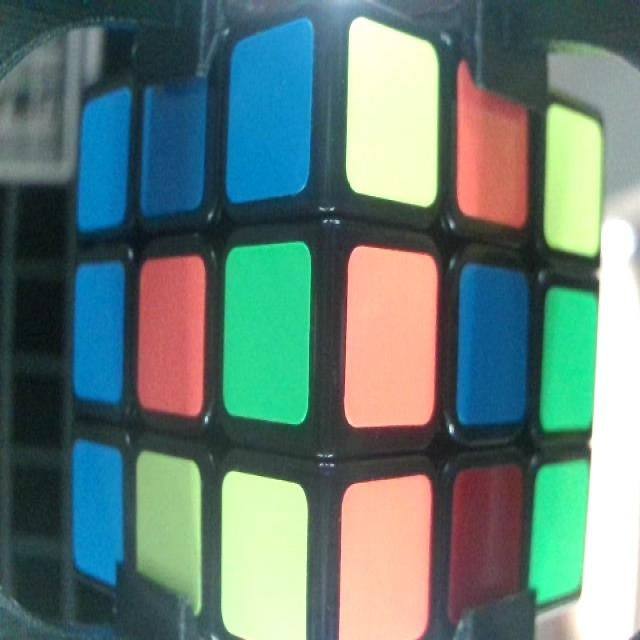b: (228, 53, 308, 183), (462, 273, 527, 414), (149, 84, 203, 203), (74, 449, 123, 574), (77, 272, 120, 396), (82, 108, 123, 220)
g: (227, 270, 308, 408), (545, 297, 593, 425), (540, 473, 586, 584)
o: (350, 262, 432, 422), (344, 495, 428, 628), (461, 88, 528, 216), (140, 267, 202, 405)
r: (457, 484, 516, 598)
y: (350, 37, 436, 184), (220, 497, 308, 634), (138, 472, 201, 596), (548, 126, 602, 236)
